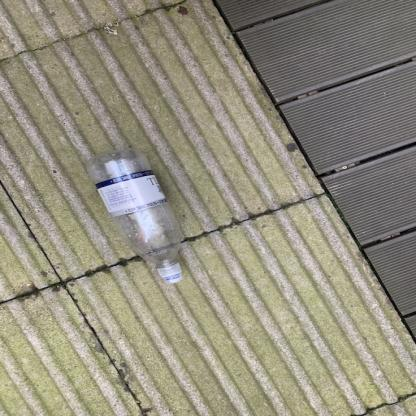trash: (84, 149, 188, 286)
